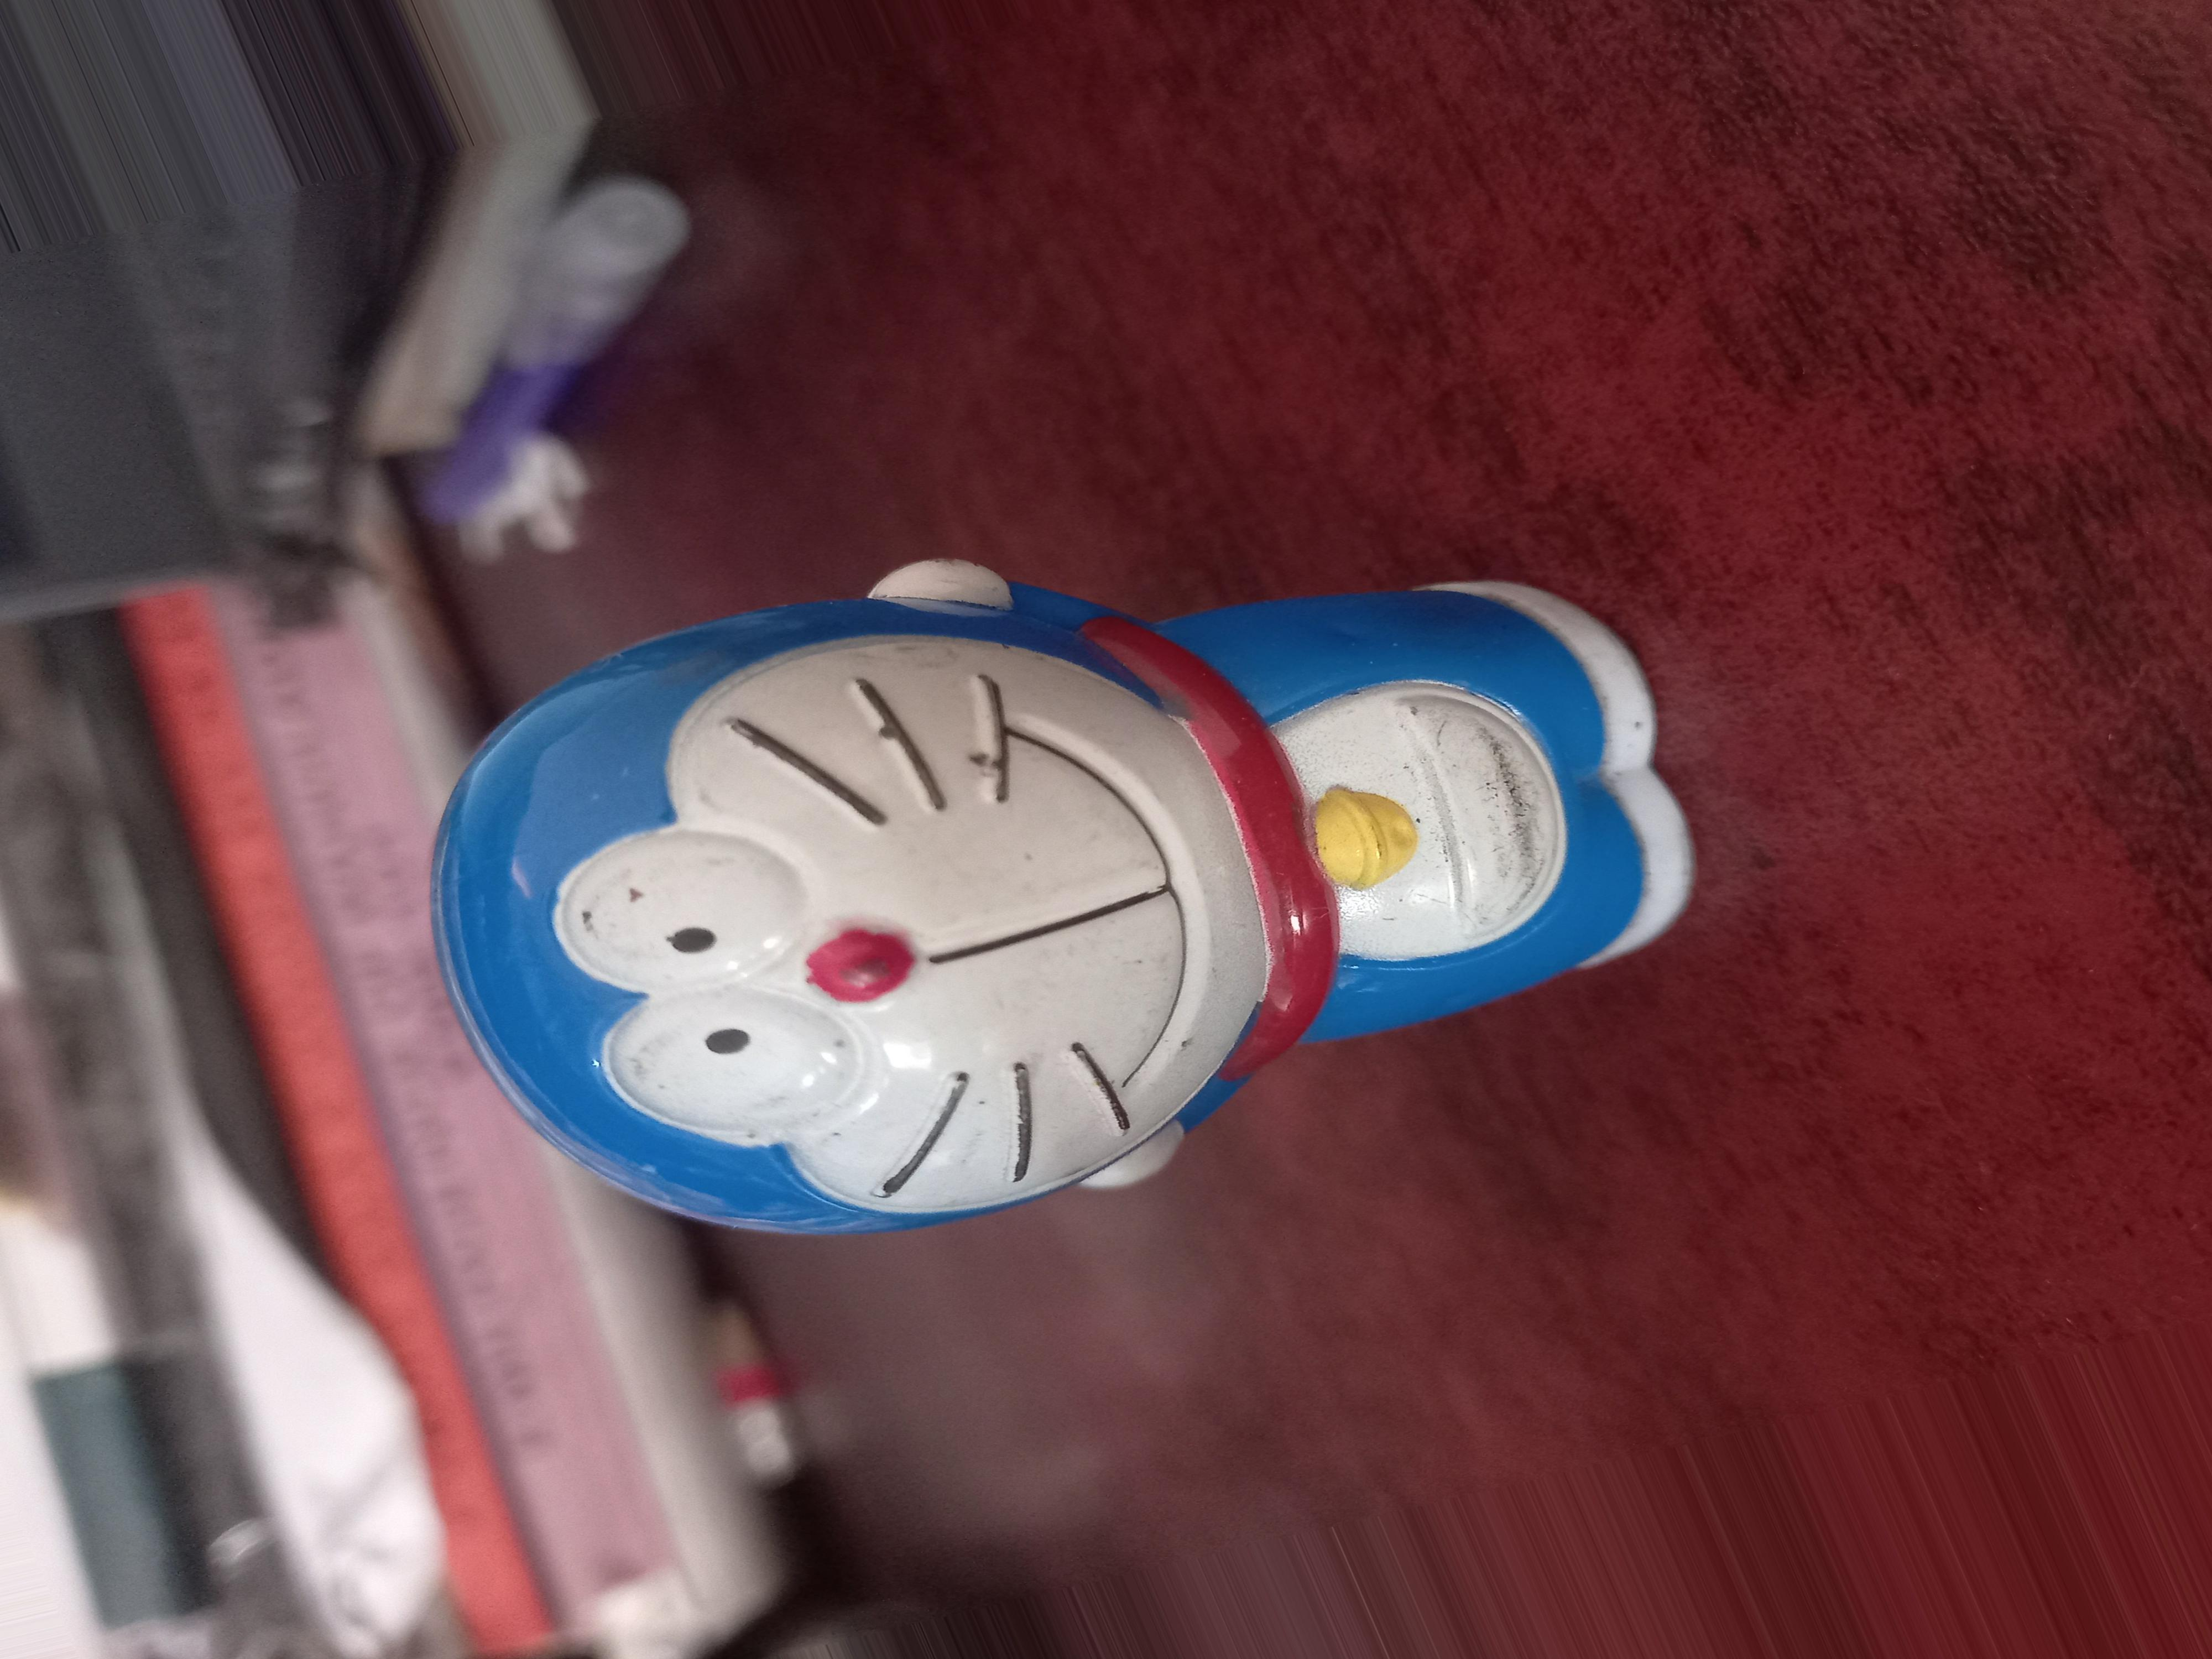doraemon: (421, 610, 1740, 1215)
